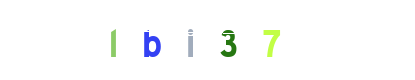3: (169, 0, 249, 80)
7: (189, 0, 269, 80)
B: (151, 0, 231, 80)
I: (167, 0, 247, 80)
L: (111, 0, 191, 80)
